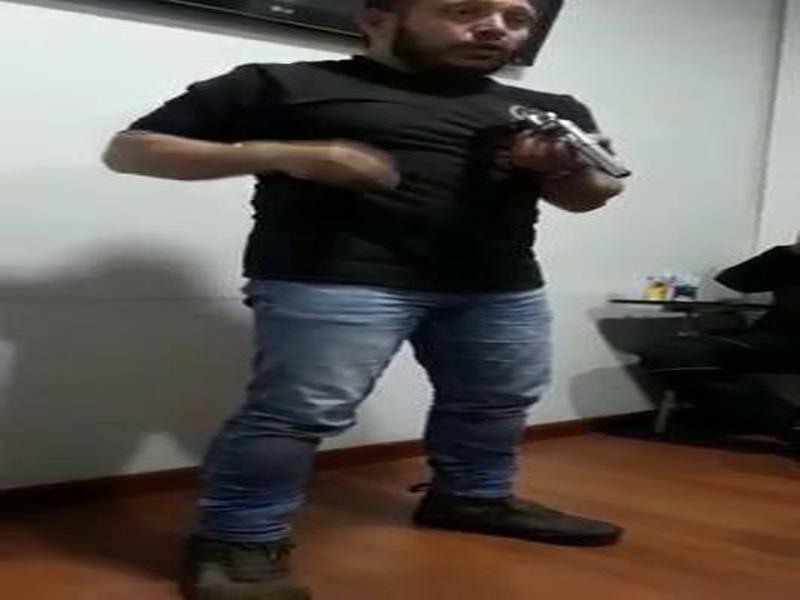Revolver: (487, 91, 644, 210)
